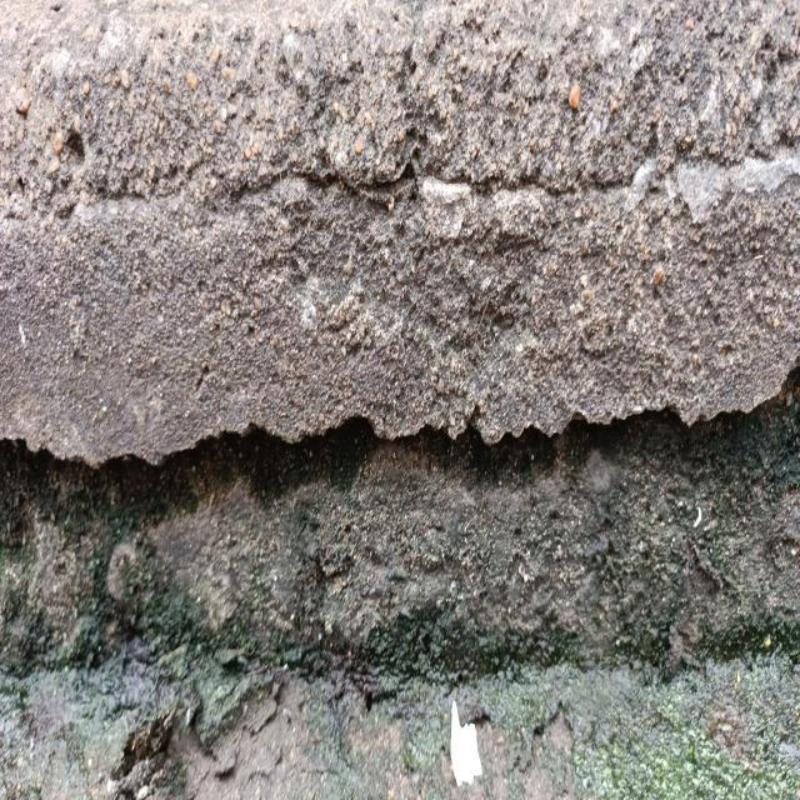pothole: (0, 365, 799, 546)
